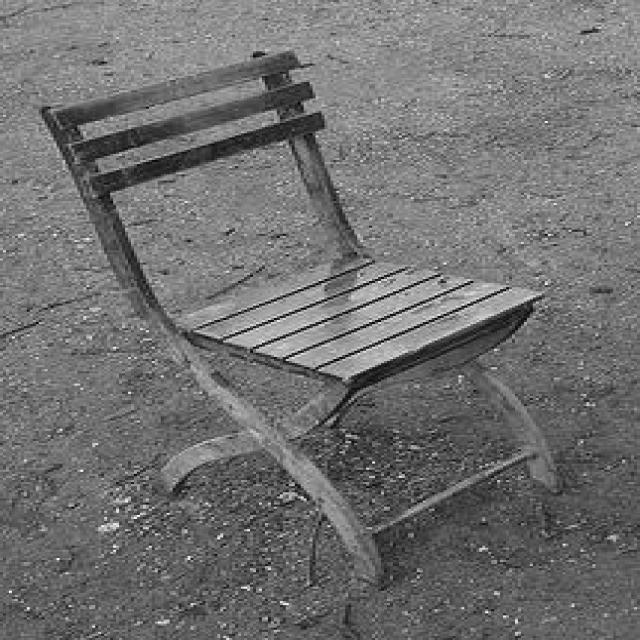chair: (34, 48, 567, 584)
